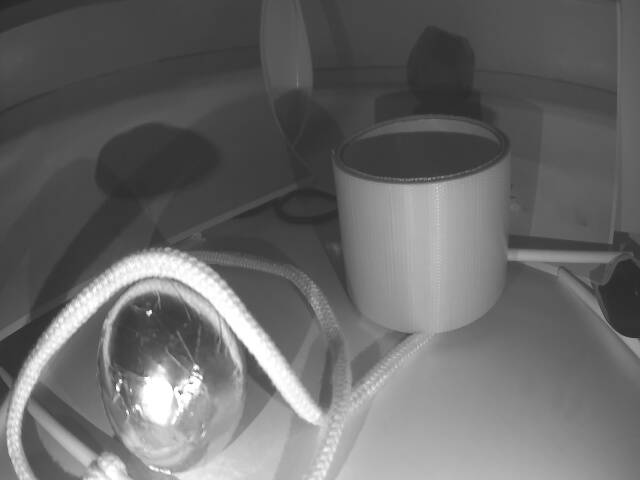Live: (97, 281, 246, 467)
